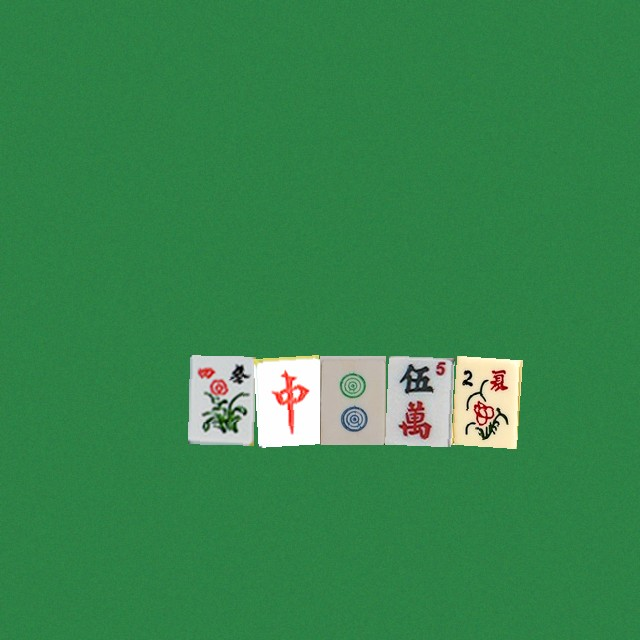tile: (187, 355, 253, 444), (253, 355, 319, 444), (319, 355, 385, 444), (385, 355, 451, 444), (451, 355, 517, 444)
